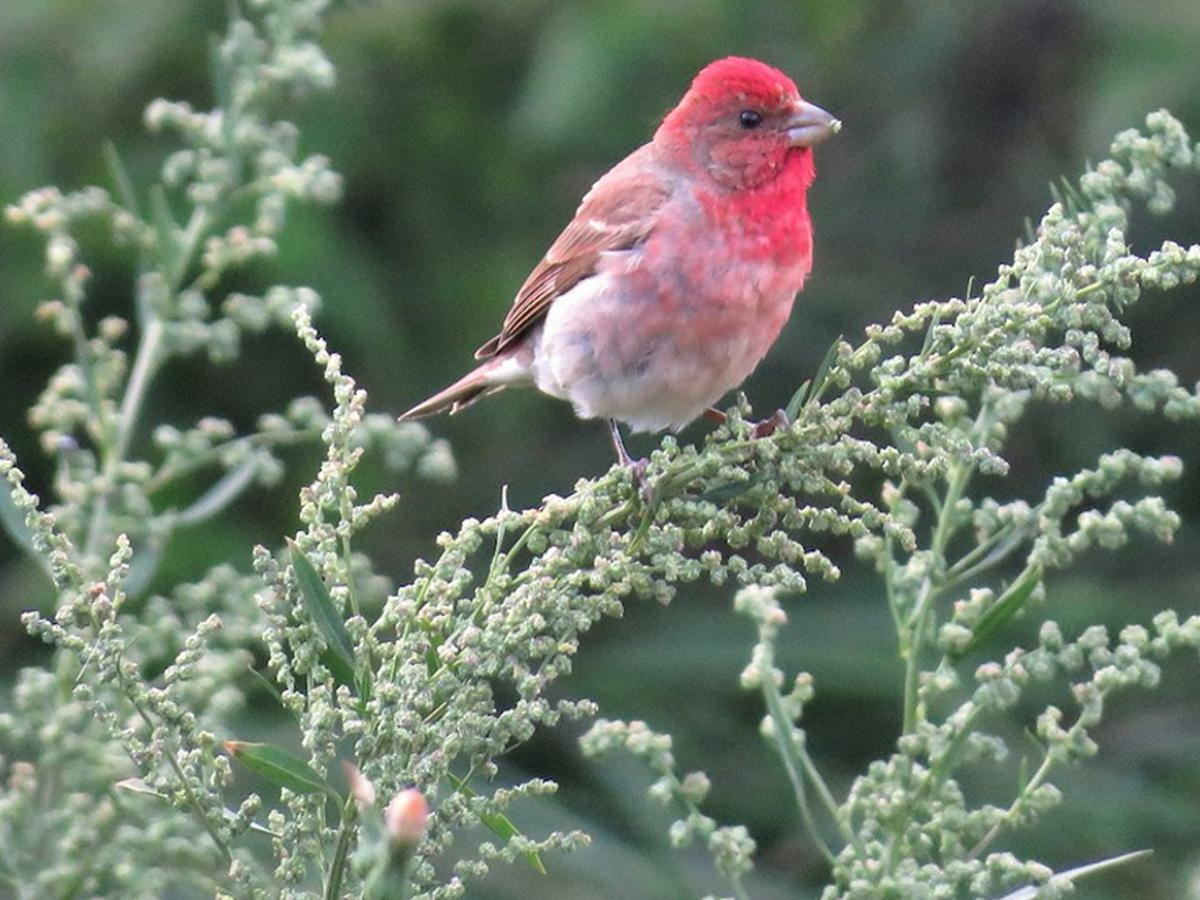rosefinch: (484, 63, 855, 397)
